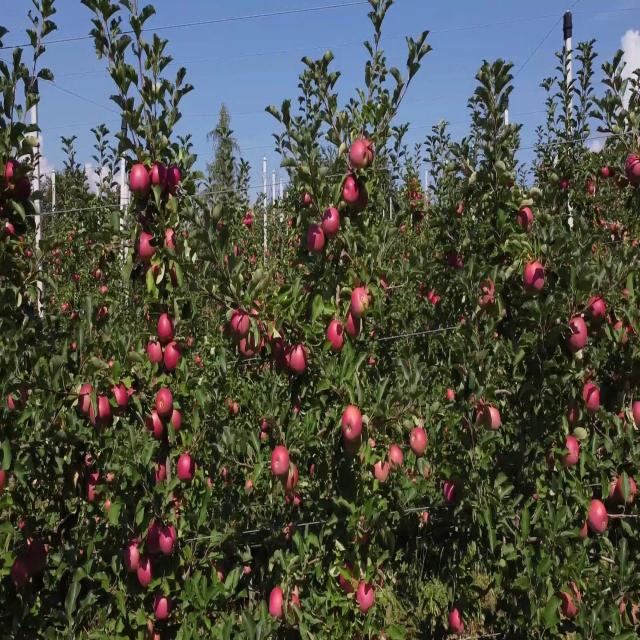apple: (460, 405, 480, 443), (28, 540, 49, 574), (132, 163, 151, 199), (344, 405, 364, 437), (524, 263, 546, 292), (340, 561, 358, 596), (568, 319, 588, 350), (564, 583, 581, 619), (356, 583, 376, 613), (588, 504, 608, 533), (620, 476, 638, 507), (560, 590, 580, 617), (328, 319, 344, 352), (164, 341, 181, 372), (180, 455, 198, 484), (276, 341, 292, 373), (412, 426, 428, 457), (480, 277, 496, 308), (140, 234, 156, 265), (308, 227, 325, 256), (272, 447, 289, 476), (160, 526, 177, 555), (324, 206, 340, 236), (288, 590, 303, 622), (344, 433, 364, 457), (160, 312, 175, 343), (292, 348, 308, 377), (584, 383, 600, 412), (564, 440, 580, 469), (148, 412, 164, 441), (284, 462, 300, 491), (12, 383, 28, 412), (156, 391, 173, 418), (12, 561, 29, 588), (460, 419, 479, 443), (612, 319, 628, 347), (344, 177, 359, 206), (356, 519, 371, 548), (352, 291, 368, 318), (276, 348, 292, 375), (588, 298, 607, 320), (16, 177, 32, 203), (624, 476, 638, 505), (520, 206, 535, 233), (612, 476, 627, 503), (356, 291, 371, 318), (80, 383, 93, 414), (124, 547, 140, 572), (96, 398, 112, 423), (112, 383, 128, 407), (272, 590, 285, 619), (352, 142, 365, 171), (488, 405, 501, 434), (88, 476, 101, 505), (152, 163, 167, 188), (388, 447, 404, 469), (148, 341, 164, 363), (232, 312, 248, 334), (268, 319, 284, 341), (148, 526, 160, 555), (156, 597, 171, 620), (348, 312, 360, 340), (164, 227, 178, 251), (16, 383, 28, 411), (376, 462, 391, 484), (356, 526, 371, 548), (140, 561, 152, 588), (252, 305, 264, 332), (272, 319, 285, 343), (236, 312, 250, 334), (4, 163, 19, 183), (376, 561, 386, 590), (100, 398, 112, 421), (156, 462, 168, 484), (444, 483, 456, 505), (172, 412, 184, 434), (568, 405, 580, 427), (356, 191, 368, 213), (364, 142, 376, 164), (452, 611, 464, 633), (240, 334, 252, 356), (132, 533, 144, 555), (216, 561, 227, 583), (616, 412, 627, 434), (168, 170, 180, 190), (476, 398, 488, 418), (628, 604, 640, 624), (8, 391, 19, 412), (172, 497, 182, 519), (628, 158, 640, 176), (548, 447, 557, 471), (620, 597, 629, 620), (632, 405, 640, 430), (380, 277, 389, 299), (548, 447, 556, 471), (580, 519, 589, 540), (228, 405, 240, 420), (428, 291, 440, 306), (140, 213, 150, 231), (632, 604, 640, 626), (292, 398, 303, 414), (420, 511, 430, 528), (0, 469, 6, 496), (273, 341, 285, 354), (284, 526, 295, 540), (148, 618, 155, 639), (152, 263, 160, 281), (172, 270, 179, 290), (256, 341, 265, 356), (104, 476, 116, 487), (288, 497, 300, 508), (304, 191, 312, 206), (368, 291, 376, 306), (104, 497, 112, 512), (257, 319, 264, 334), (92, 407, 97, 427), (628, 321, 635, 334), (224, 469, 229, 487), (448, 391, 456, 402), (20, 519, 26, 533), (244, 568, 252, 576), (624, 291, 631, 300), (560, 184, 567, 192), (420, 291, 425, 302), (248, 483, 253, 492)
